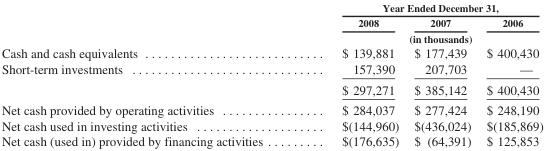table: (0, 1, 542, 148)
table column: (0, 1, 301, 148), (301, 1, 405, 148), (405, 1, 478, 148), (478, 1, 542, 148)
table column header: (0, 1, 542, 44)
table row: (0, 78, 542, 99), (0, 60, 542, 78), (0, 99, 542, 117), (0, 14, 542, 30), (0, 44, 542, 60), (0, 117, 542, 133), (0, 133, 542, 148), (0, 30, 542, 44), (0, 1, 542, 14)
table spanning cell: (301, 30, 542, 44), (301, 1, 542, 14)
